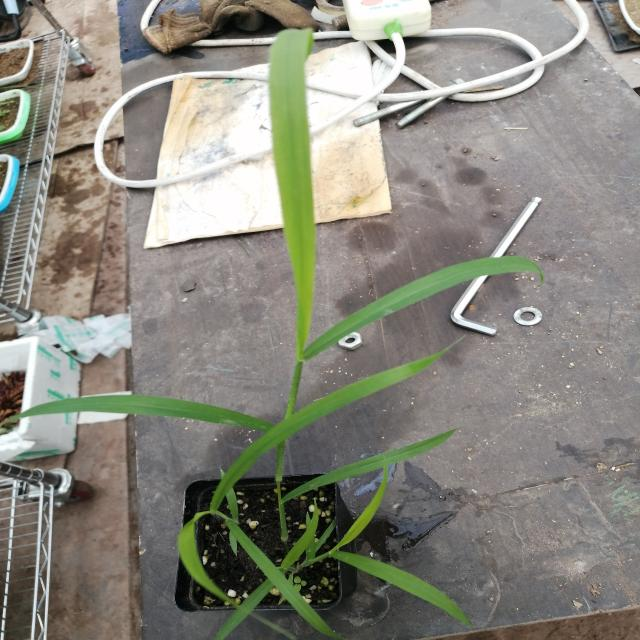crabgrass: (91, 33, 452, 628)
